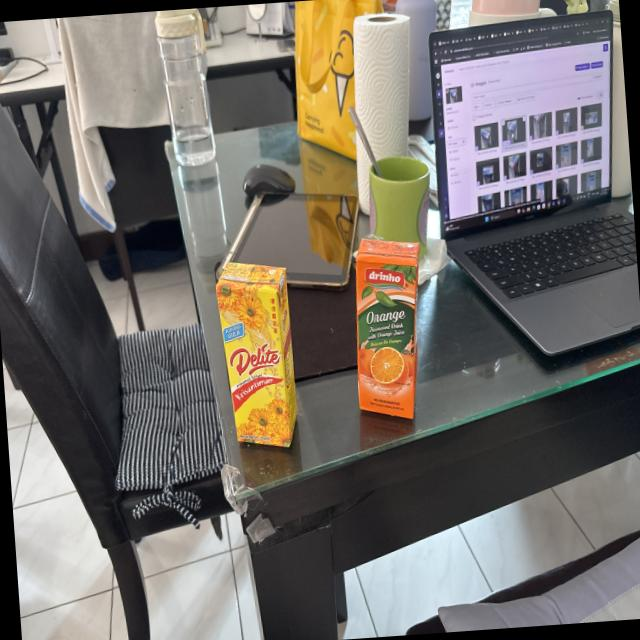drink_carton: (210, 247, 308, 463), (344, 226, 435, 438)
